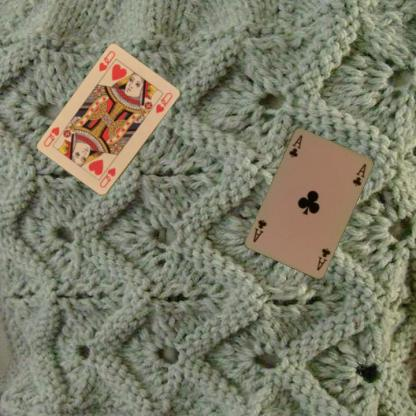Ac: (314, 245, 332, 272), (286, 132, 303, 158)
Qh: (96, 48, 117, 73), (97, 165, 117, 190)
